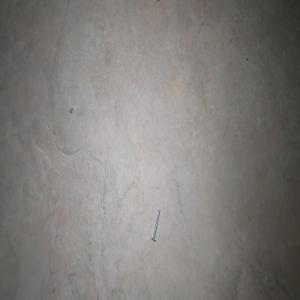Bolt: (151, 206, 160, 242)
